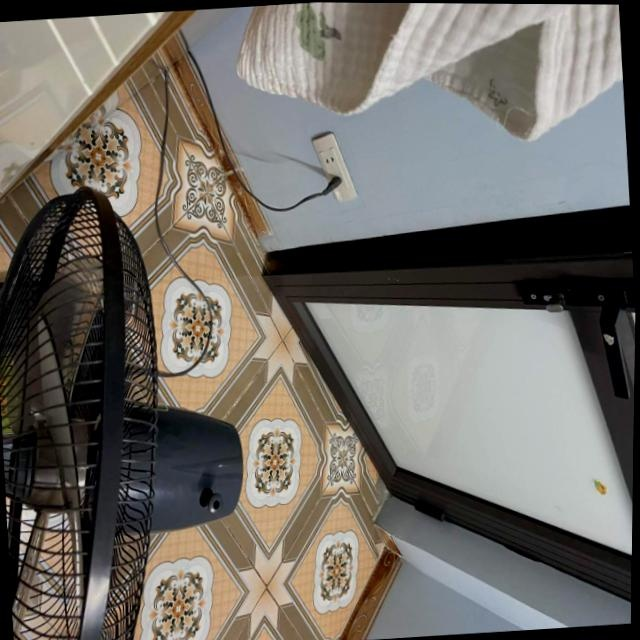outlet: (308, 129, 358, 203)
